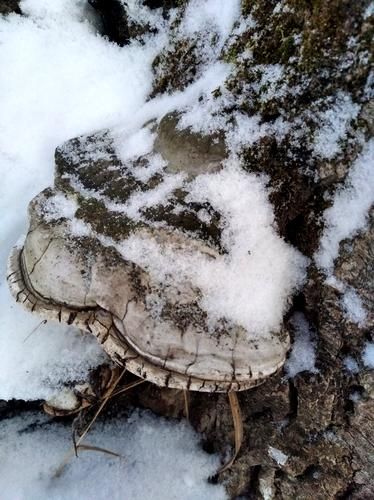Ganoderma - Fruit Body: (11, 176, 293, 394)
